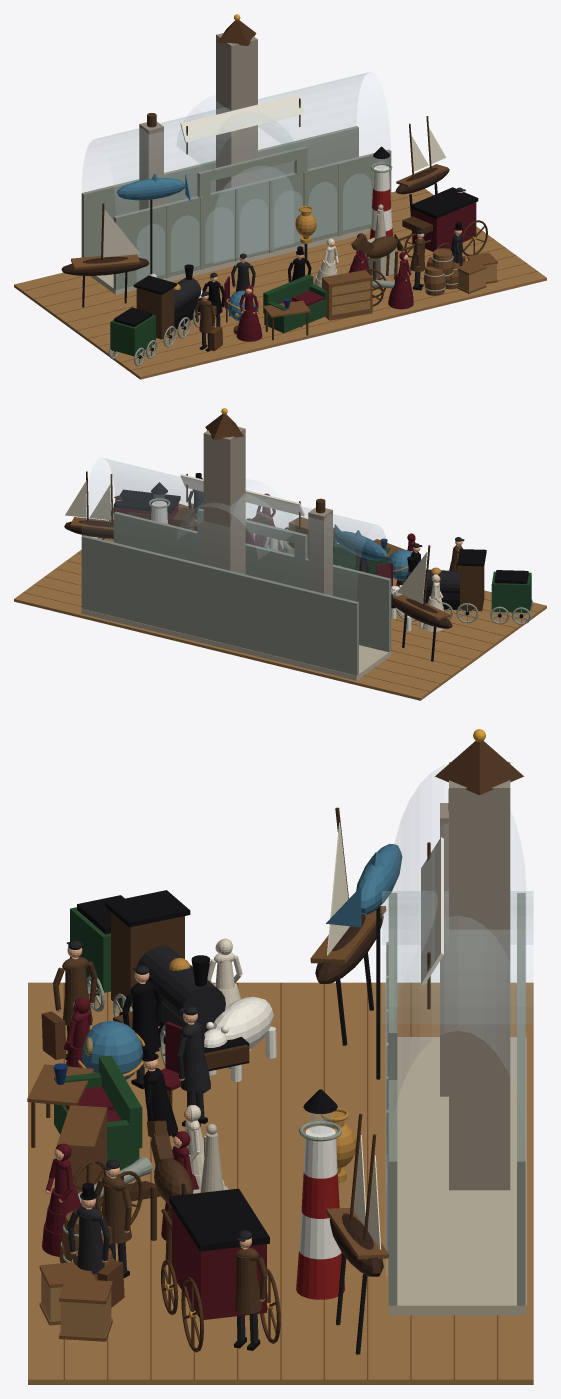
The model's file is scan-fig37-dispersion-of-the-works-of-all-nations-muse.glb.
The picture shows the model from 3 angles, top to bottom: view 1: azimuth 30°, elevation 25°; view 2: azimuth 150°, elevation 25°; view 3: azimuth 270°, elevation 25°; orthographic projection. The views are drawn at different scales.
Parts seen in each view (by area): view 1: Floor, NaveVault, PalaceWall, TranseptArch, PalaceWallBack, Tower, RoofBanner, CarriageBody, Chimney, NaveWindow3, NaveWindow2, NaveWindow6 (+26 smaller); view 2: NaveVault, PalaceWallBack, Floor, PalaceWall, Tower, PalacePlinth, Chimney, Tender, TranseptVault, LocoCab, RoofBanner, CarriageRoof (+15 smaller); view 3: Floor, Tower, PalacePlinth, NaveVault, TranseptVault, CarriageBody, CarriageRoof, PalaceWallBack, LocoCab, LocoBoiler, ChestBody, RoofBanner (+33 smaller).
Boxes of the visible parts, x1=… form: Floor: x1=14, y1=188, x2=546, y2=379; NaveVault: x1=82, y1=72, x2=390, y2=217; PalaceWall: x1=113, y1=149, x2=391, y2=289; TranseptArch: x1=213, y1=166, x2=294, y2=263; PalaceWallBack: x1=81, y1=126, x2=358, y2=257; Tower: x1=216, y1=33, x2=257, y2=191; RoofBanner: x1=180, y1=94, x2=304, y2=142; CarriageBody: x1=412, y1=202, x2=476, y2=251; Chimney: x1=139, y1=121, x2=163, y2=210; NaveWindow3: x1=239, y1=199, x2=268, y2=254; NaveWindow2: x1=205, y1=207, x2=233, y2=263; NaveWindow6: x1=343, y1=174, x2=371, y2=229; NaveVault: x1=82, y1=458, x2=390, y2=602; PalaceWallBack: x1=81, y1=535, x2=358, y2=675; Floor: x1=14, y1=534, x2=546, y2=700; PalaceWall: x1=113, y1=511, x2=391, y2=652; Tower: x1=203, y1=427, x2=245, y2=574; PalacePlinth: x1=81, y1=608, x2=390, y2=680; Chimney: x1=308, y1=507, x2=332, y2=595; Tender: x1=491, y1=571, x2=531, y2=612; TranseptVault: x1=177, y1=479, x2=281, y2=559; LocoCab: x1=460, y1=565, x2=484, y2=611; RoofBanner: x1=180, y1=474, x2=304, y2=516; CarriageRoof: x1=113, y1=489, x2=180, y2=513; Floor: x1=28, y1=982, x2=533, y2=1384; Tower: x1=449, y1=762, x2=510, y2=1190; PalacePlinth: x1=389, y1=1037, x2=526, y2=1315; NaveVault: x1=390, y1=764, x2=525, y2=1135; TranseptVault: x1=382, y1=891, x2=533, y2=1023; CarriageBody: x1=172, y1=1208, x2=266, y2=1319; CarriageRoof: x1=169, y1=1188, x2=269, y2=1251; PalaceWallBack: x1=517, y1=893, x2=525, y2=1305; LocoCab: x1=111, y1=912, x2=184, y2=1012; LocoBoiler: x1=137, y1=946, x2=225, y2=1030; ChestBody: x1=57, y1=1105, x2=107, y2=1207; RoofBanner: x1=421, y1=837, x2=443, y2=985.
Size of the model in its own units: 13.25 by 7.07 by 7.01.
